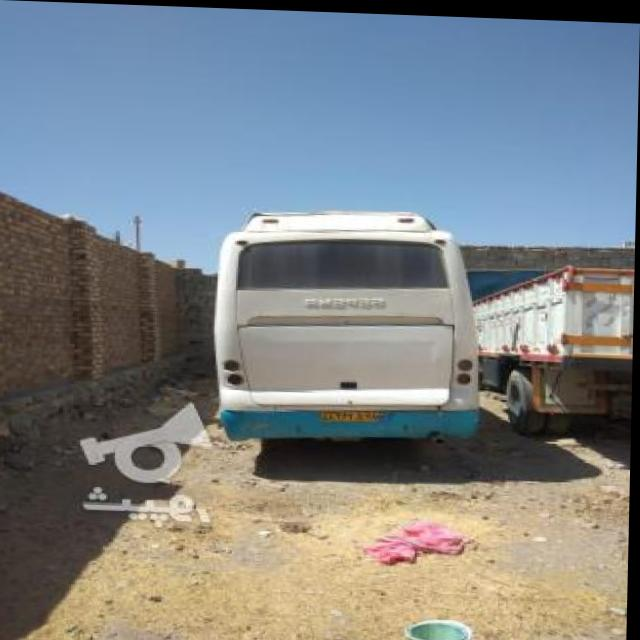licence: (325, 407, 389, 416)
